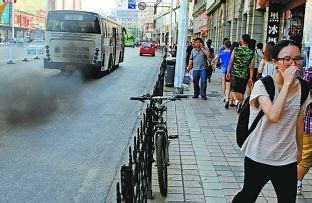smoke: (2, 66, 85, 131)
